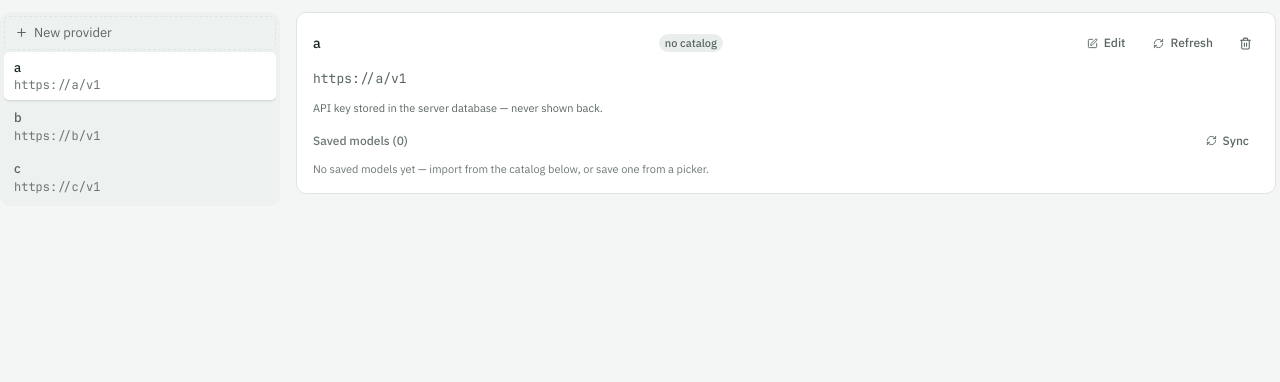
integration panels › providers: deleting the selected entry falls selection to the next one
Note: First entry preselected → remove it via the preview's two-step.
Click the button named "Remove a" at [1245, 43], box [1231,29,1259,57]
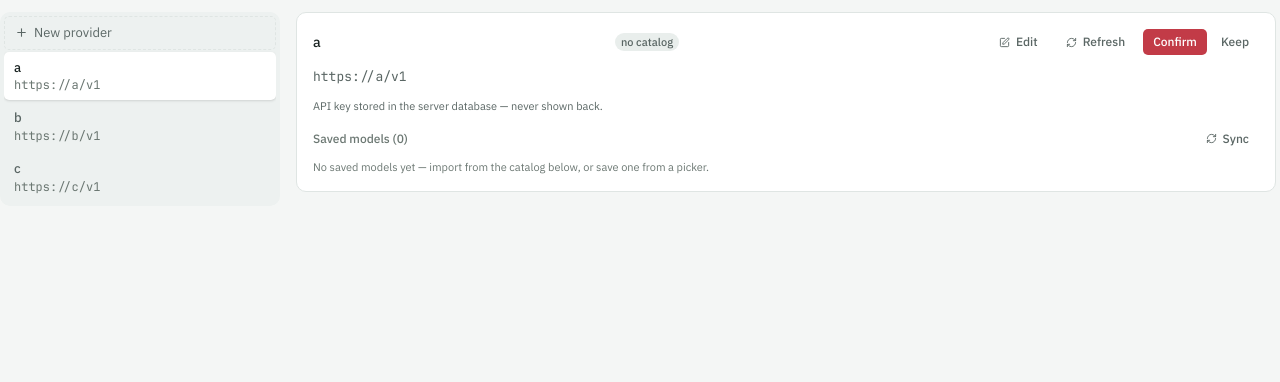
Click the button "Confirm" at [1175, 42], box [1143,29,1207,55]
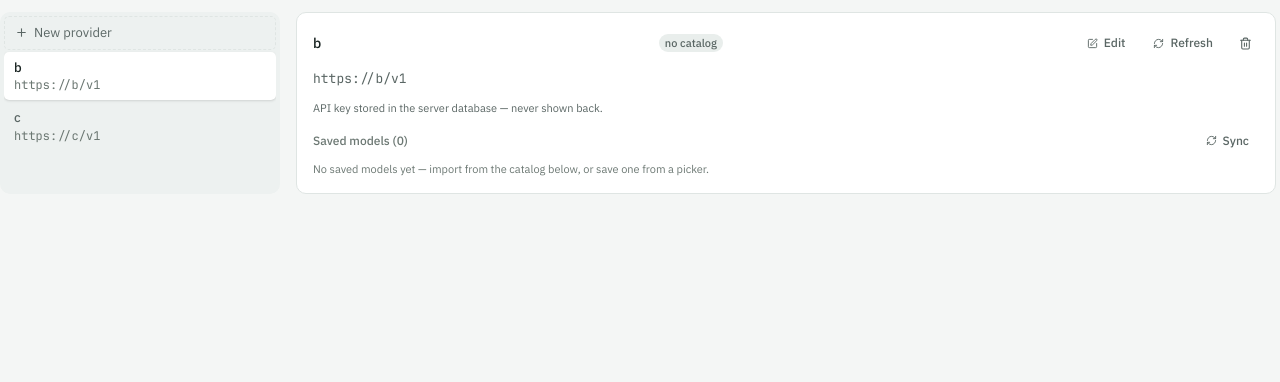
Expected: the text "API key stored in the server database — never shown back." is shown, [313,100,603,114]
Expected: the 1st text "https://b/v1" is shown, [14,77,100,93]
Click the button named "Remove b" at [1245, 43], box [1231,29,1259,57]
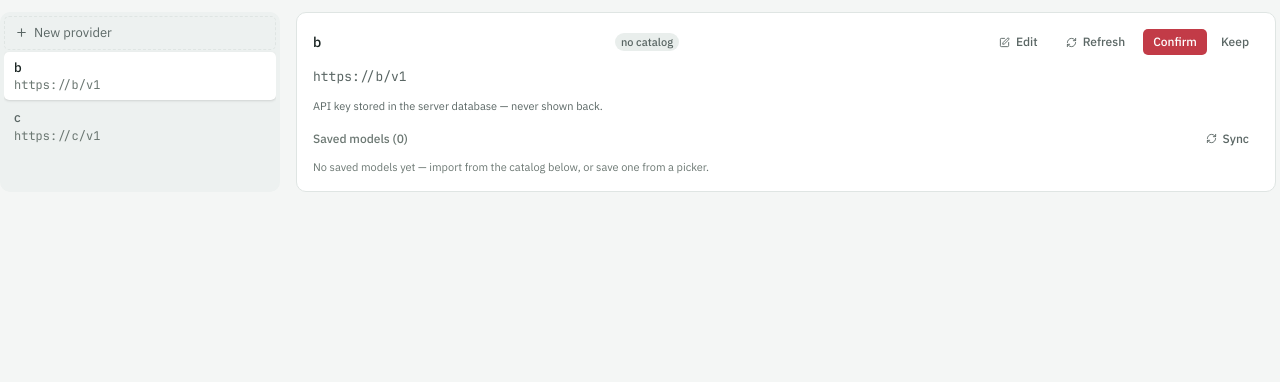
Click the button "Confirm" at [1175, 42], box [1143,29,1207,55]
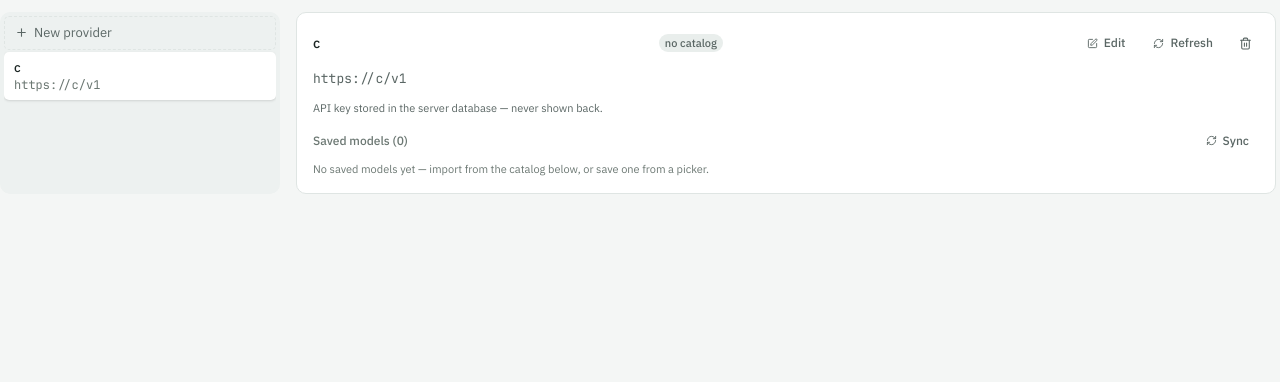
Expected: the 1st text "https://c/v1" is shown, [14,77,100,93]
Click the button named "Remove c" at [1245, 43], box [1231,29,1259,57]
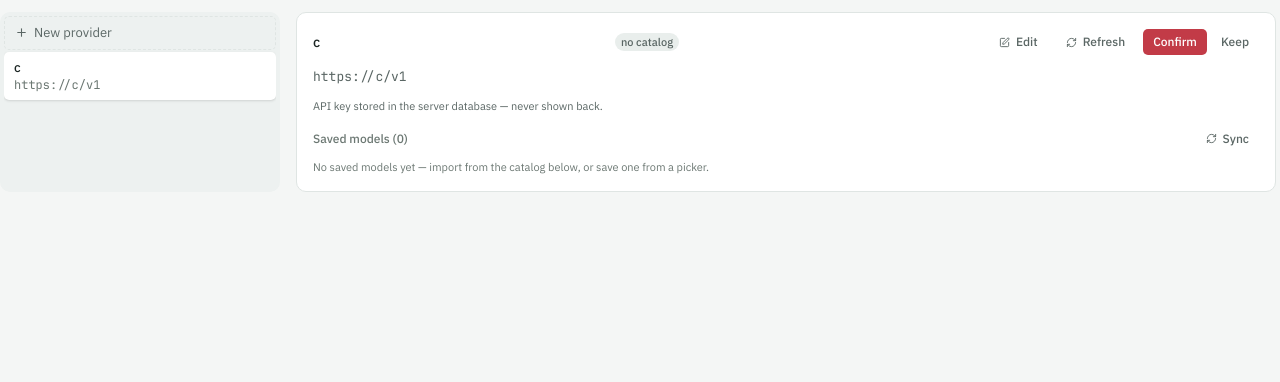
Click the button "Confirm" at [1175, 42], box [1143,29,1207,55]
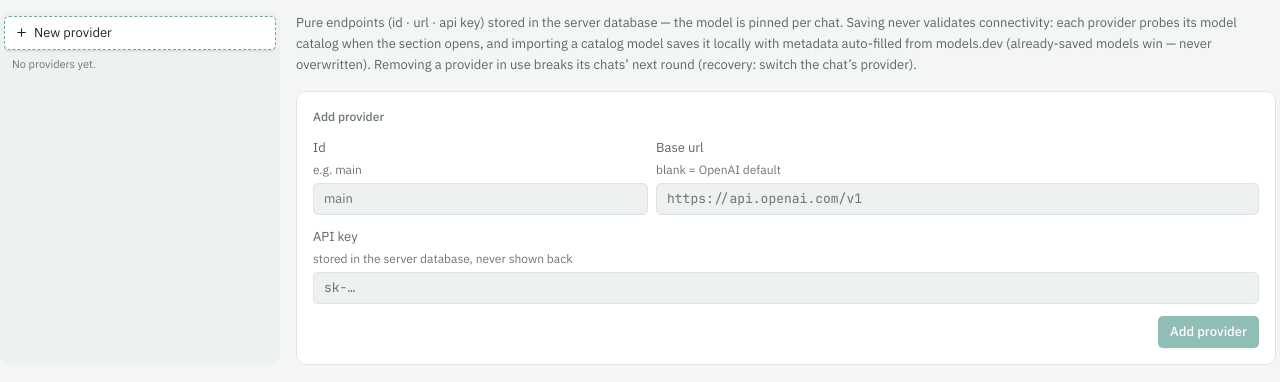
Now the button "Add provider" is shown, box [1158,316,1259,348]
